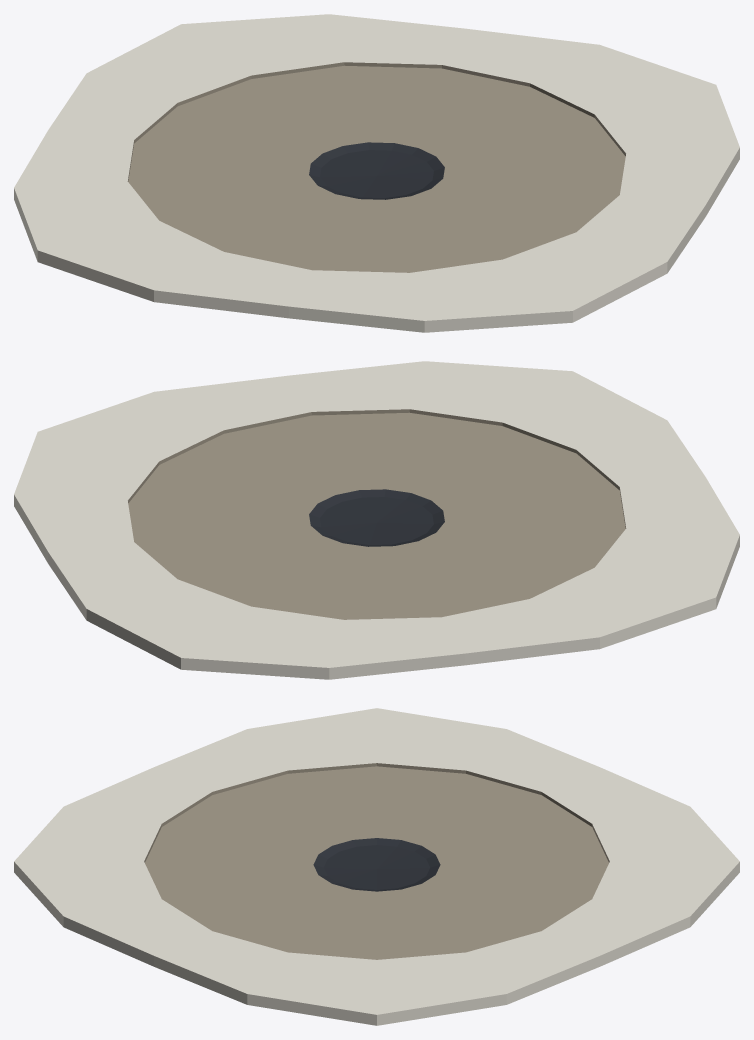
The model's file is paper_doily.glb.
The picture shows the model from 3 angles, top to bottom: view 1: azimuth 30°, elevation 25°; view 2: azimuth 150°, elevation 25°; view 3: azimuth 270°, elevation 25°; orthographic projection. The views are drawn at different scales.
Parts seen in each view (by area): view 1: paper_doily; view 2: paper_doily; view 3: paper_doily.
Part boxes in pixels (x1,y1,x2,y2): paper_doily: (14, 14, 739, 332); paper_doily: (14, 361, 739, 679); paper_doily: (14, 708, 739, 1025).
Size of the model in its own units: 0.12 by 0.002 by 0.12.
